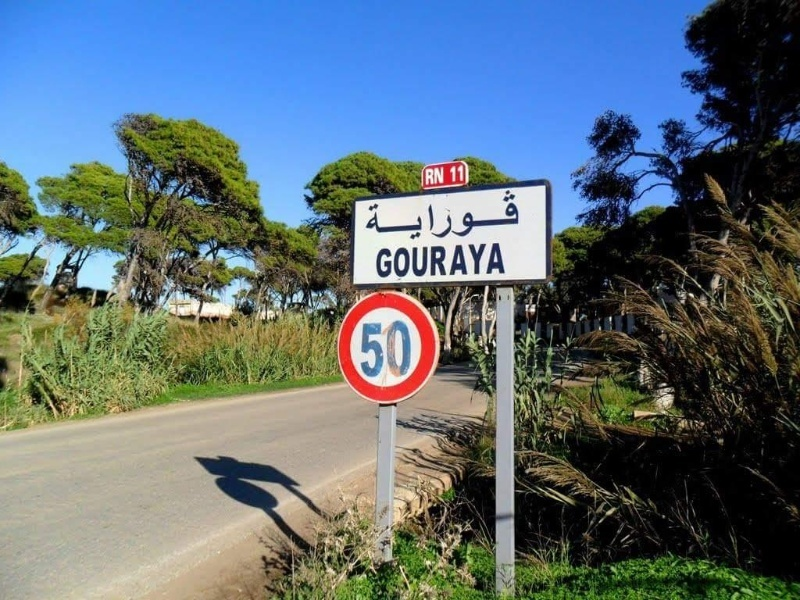text: (369, 321, 384, 378), (385, 321, 400, 378), (369, 189, 384, 241), (385, 189, 400, 241), (401, 189, 416, 241), (417, 189, 432, 241), (433, 189, 448, 241), (449, 189, 464, 241), (465, 189, 480, 241), (481, 189, 496, 241), (497, 189, 512, 241), (401, 321, 412, 378), (385, 243, 400, 279), (401, 243, 416, 279), (417, 243, 432, 279), (433, 243, 448, 279), (449, 243, 464, 279), (465, 243, 480, 279), (481, 243, 496, 279), (513, 189, 522, 241), (497, 243, 505, 279), (363, 321, 368, 378), (450, 165, 464, 184), (433, 167, 445, 186), (379, 243, 384, 279), (426, 167, 432, 186), (366, 189, 368, 241), (465, 165, 466, 184)
